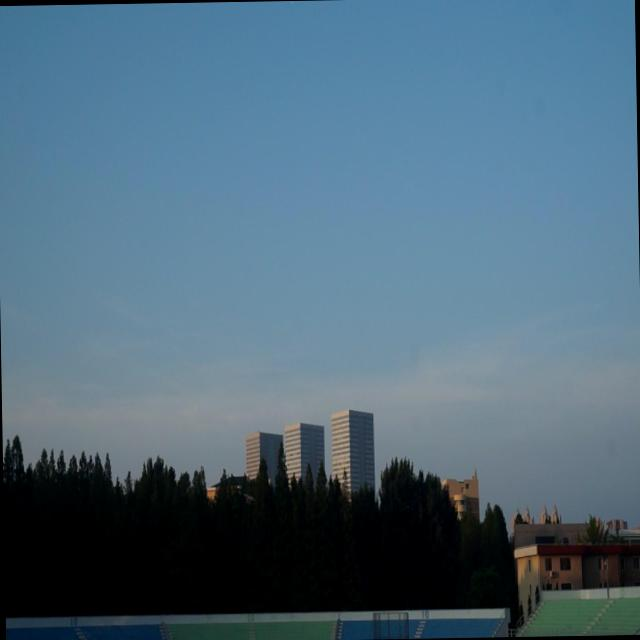drone: (241, 489, 258, 507)
